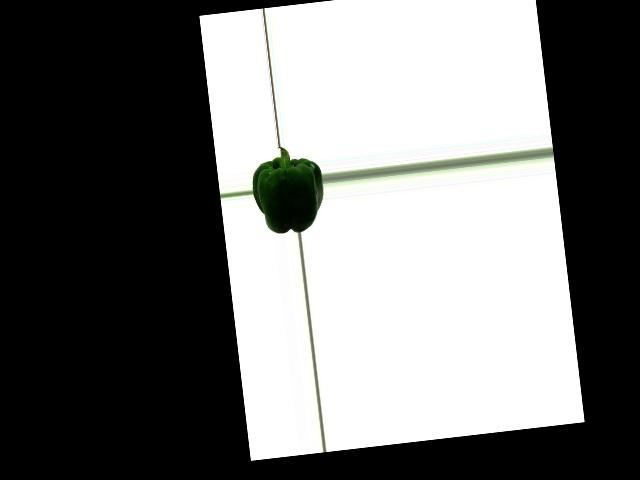bell_pepper: (248, 144, 326, 237)
